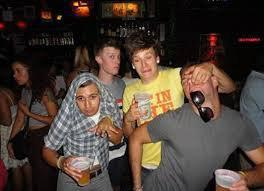Drunk: (182, 71, 212, 102), (133, 51, 157, 80), (78, 88, 99, 113), (104, 48, 120, 75)
